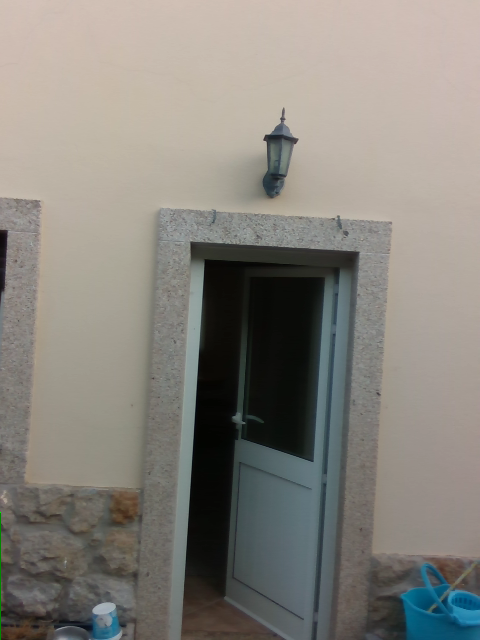semi: (164, 243, 356, 639)
